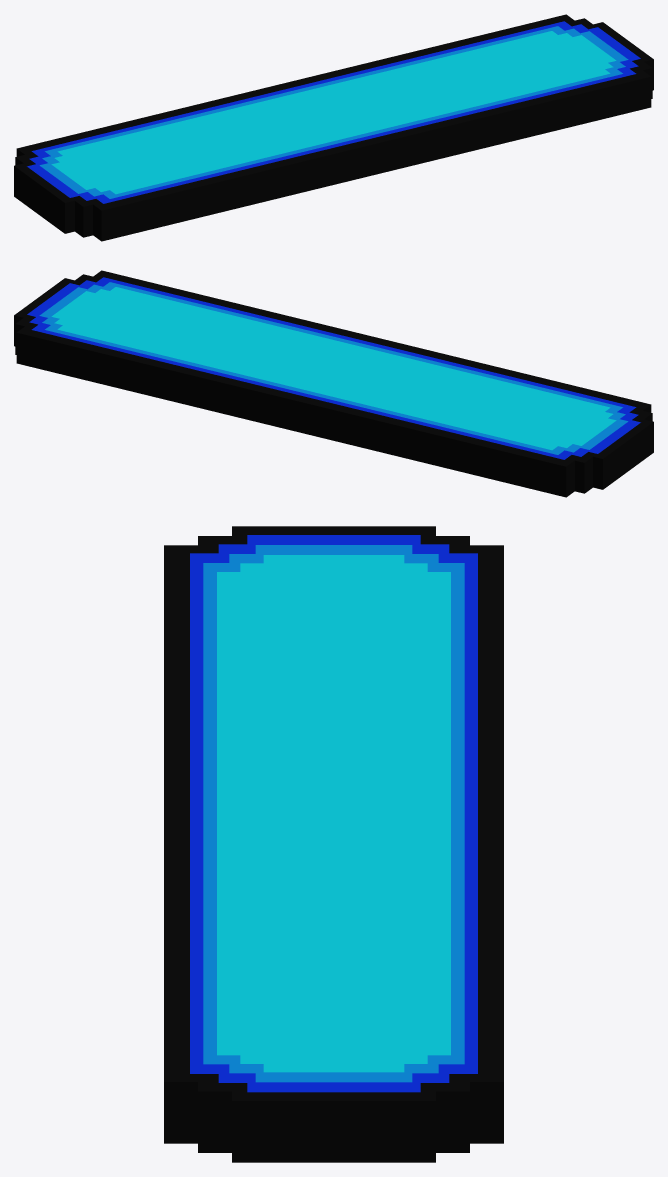
File: cube dialogue.fbx
The picture shows the model from 3 angles, top to bottom: view 1: azimuth 30°, elevation 25°; view 2: azimuth 150°, elevation 25°; view 3: azimuth 270°, elevation 25°; orthographic projection. The views are drawn at different scales.
Visible parts, largest first — view 1: Cube; view 2: Cube; view 3: Cube.
Boxes of the visible parts, bbox=[...] form: Cube: bbox=[14, 14, 653, 241]; Cube: bbox=[14, 270, 653, 497]; Cube: bbox=[164, 526, 503, 1162].
Bounding box in the file's own units: 200 × 10 × 50.
